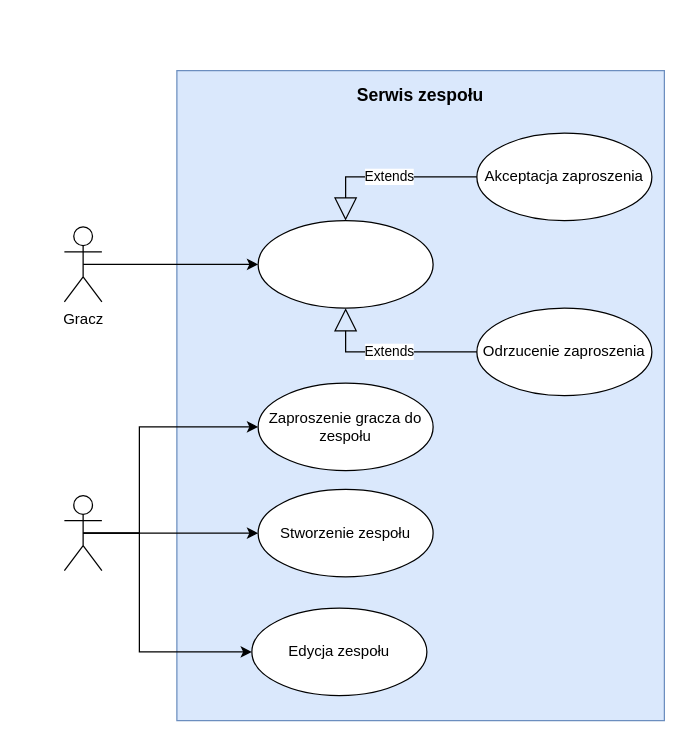
Image size: 686x743. Some labels were removed from this diagram. Each missing label, with the box of its shape:
Dołączenie do zespołu: (257, 219, 433, 308)
Właściciel zespołu: (63, 494, 102, 571)
